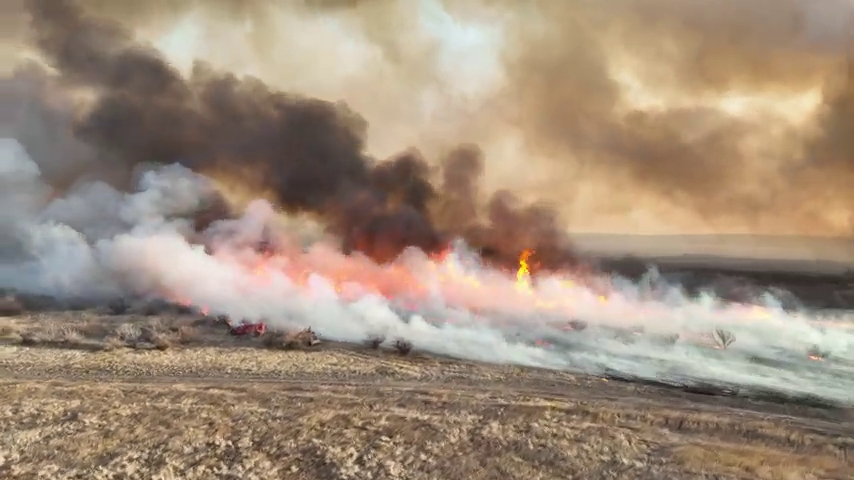forest_fire: (516, 249, 532, 290)
